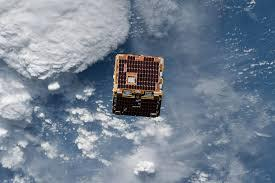solar: (116, 54, 161, 93), (112, 94, 160, 117)
